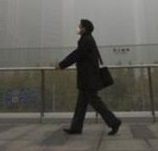person: (54, 18, 122, 137)
